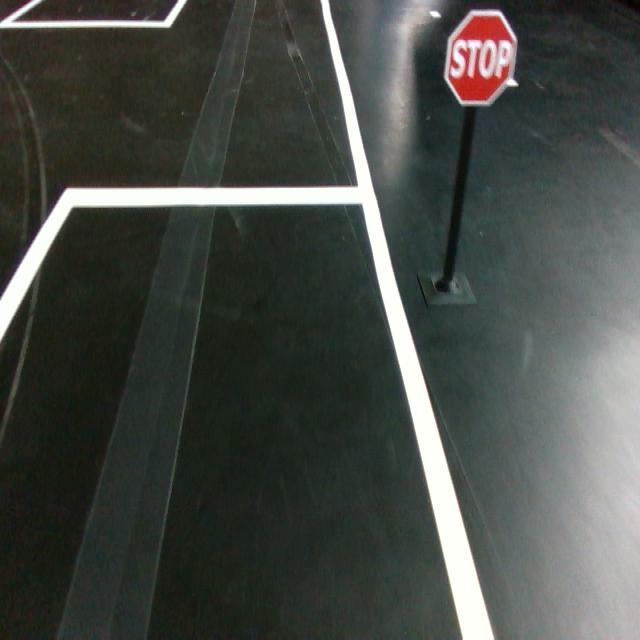stop-sign: (442, 9, 518, 107)
